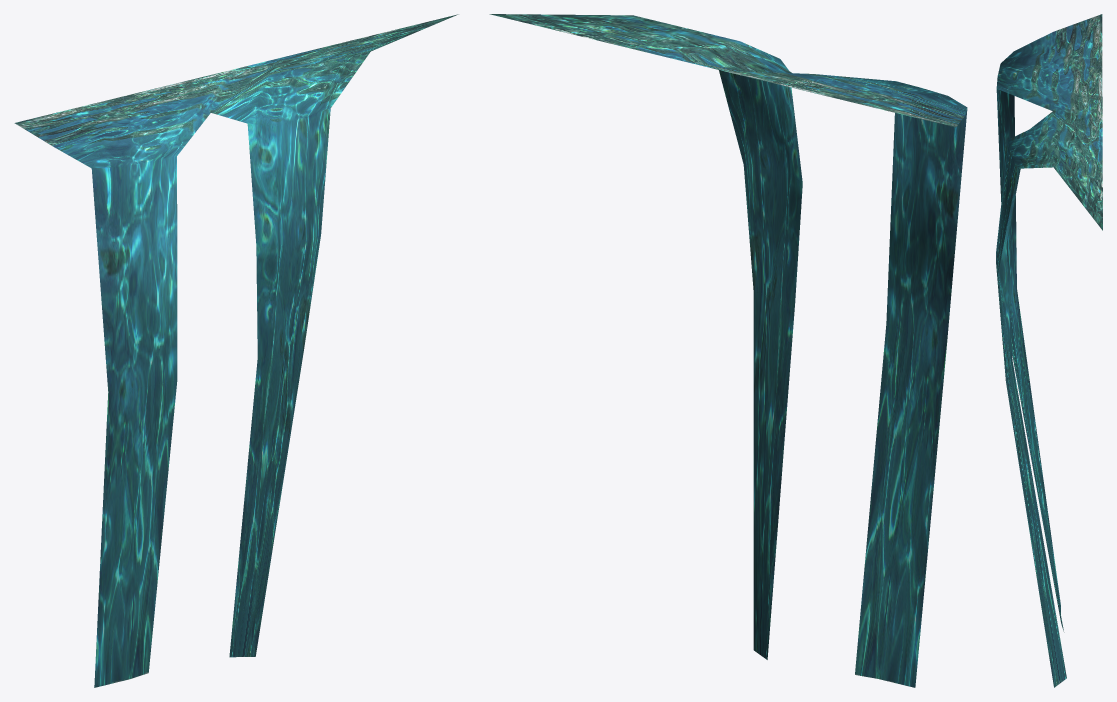
Rendered from Mine_shanti01shui2_2.FBX.
3 views of the same model, side by side, from view 1: azimuth 30°, elevation 25°; view 2: azimuth 150°, elevation 25°; view 3: azimuth 270°, elevation 25° (orthographic). The views are drawn at different scales.
Parts seen in each view (by area): view 1: Plane007; view 2: Plane007; view 3: Plane007.
Part boxes in pixels (x1,y1,x2,y2): Plane007: (14, 14, 458, 687); Plane007: (489, 14, 967, 687); Plane007: (996, 14, 1102, 687).
Bounding box in the file's own units: 3242 × 4015 × 675.
Materials: 1 (1 with a texture image).
